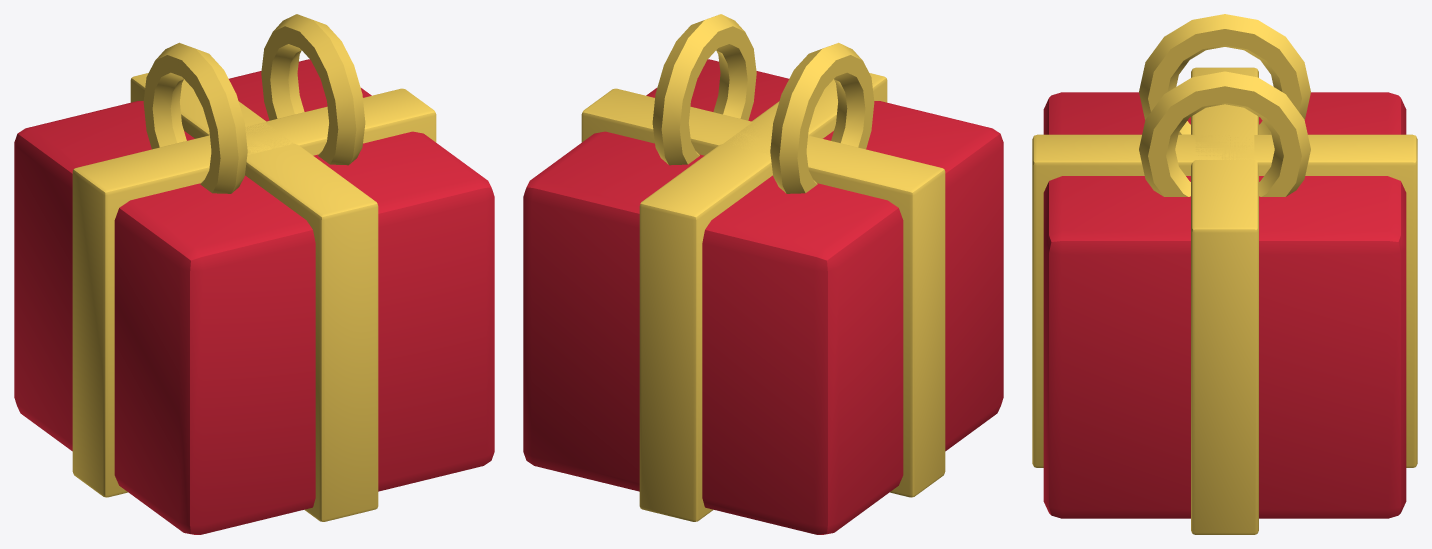
File: DecoGift.fbx
The picture shows the model from 3 angles, left to right: view 1: azimuth 30°, elevation 25°; view 2: azimuth 150°, elevation 25°; view 3: azimuth 270°, elevation 25°; orthographic projection.
Visible parts, largest first — view 1: DecoGift; view 2: DecoGift; view 3: DecoGift.
Part boxes in pixels (left/top/right/bottom): DecoGift: left=14, top=14, right=494, bottom=534; DecoGift: left=523, top=14, right=1003, bottom=534; DecoGift: left=1032, top=14, right=1417, bottom=534.
Size of the model in its own units: 170 by 201 by 170.
